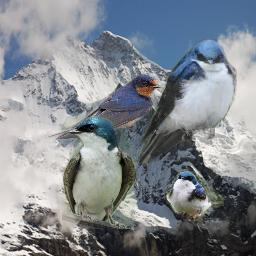Swallow: (135, 38, 237, 165), (62, 115, 136, 229), (42, 73, 163, 142), (166, 171, 224, 221)
